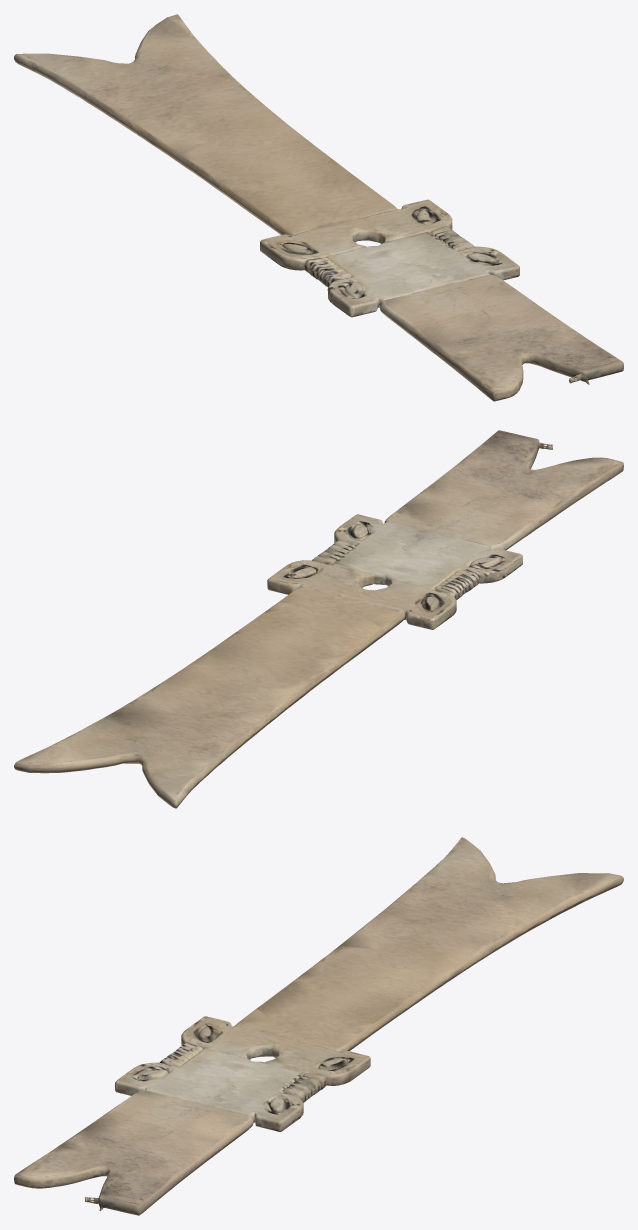
The model's file is sanxingdui-zhang-roaming.glb.
3 renders of one model, top to bottom at view 1: azimuth 30°, elevation 25°; view 2: azimuth 150°, elevation 25°; view 3: azimuth 330°, elevation 25°, orthographic.
Parts seen in each view (by area): view 1: node_0; view 2: node_0; view 3: node_0.
Part boxes in pixels (box(x1,y1,x2,y2)): node_0: box(14, 14, 623, 401); node_0: box(14, 430, 623, 808); node_0: box(14, 837, 623, 1215).
Bounding box in the file's own units: 0.2491 × 0.0197 × 1.17.
Materials: 1 (1 with a texture image).
